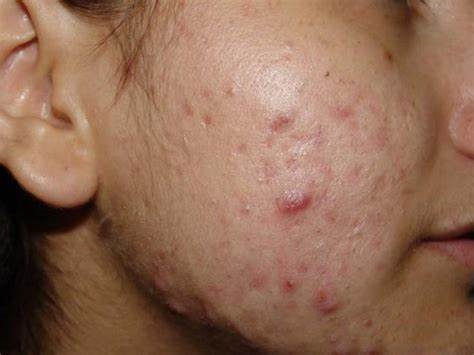Acne: (271, 180, 316, 222), (268, 99, 299, 143), (275, 268, 304, 301)
